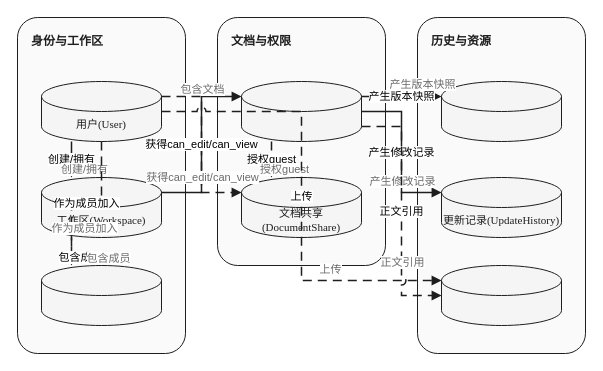
Image size: 603x371. Some labels were removed from this diagram. Each missing label, with the centre of its shape:
媒体资源(MediaObject): (x=501, y=295)
工作区成员(WorkspaceMember): (x=101, y=295)
文档(Document): (x=301, y=111)
版本快照(VersionHistory): (x=501, y=111)
